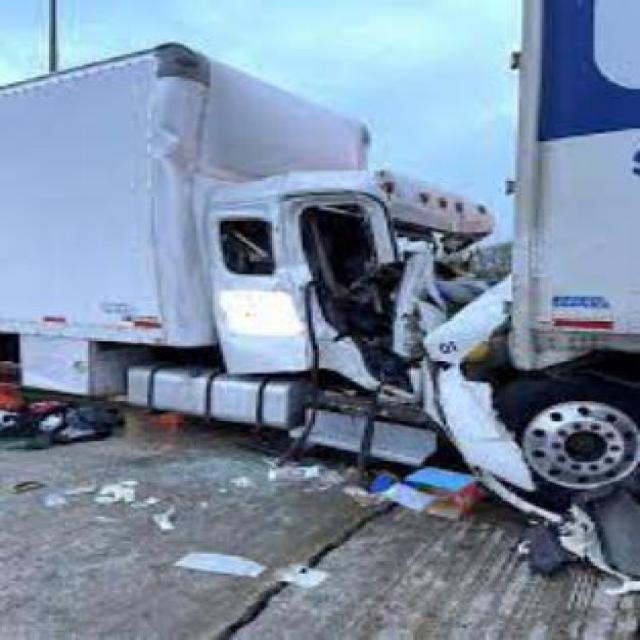accident: (0, 0, 636, 605)
